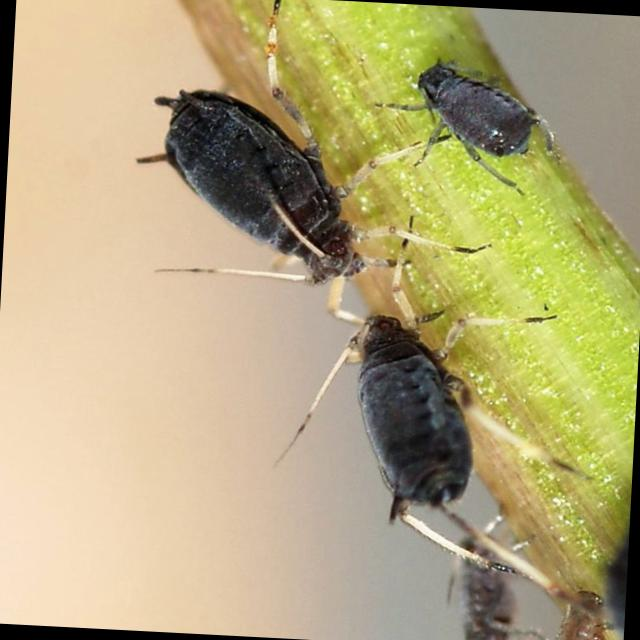Aphids: (108, 36, 410, 322), (314, 276, 581, 580), (390, 52, 568, 197)
